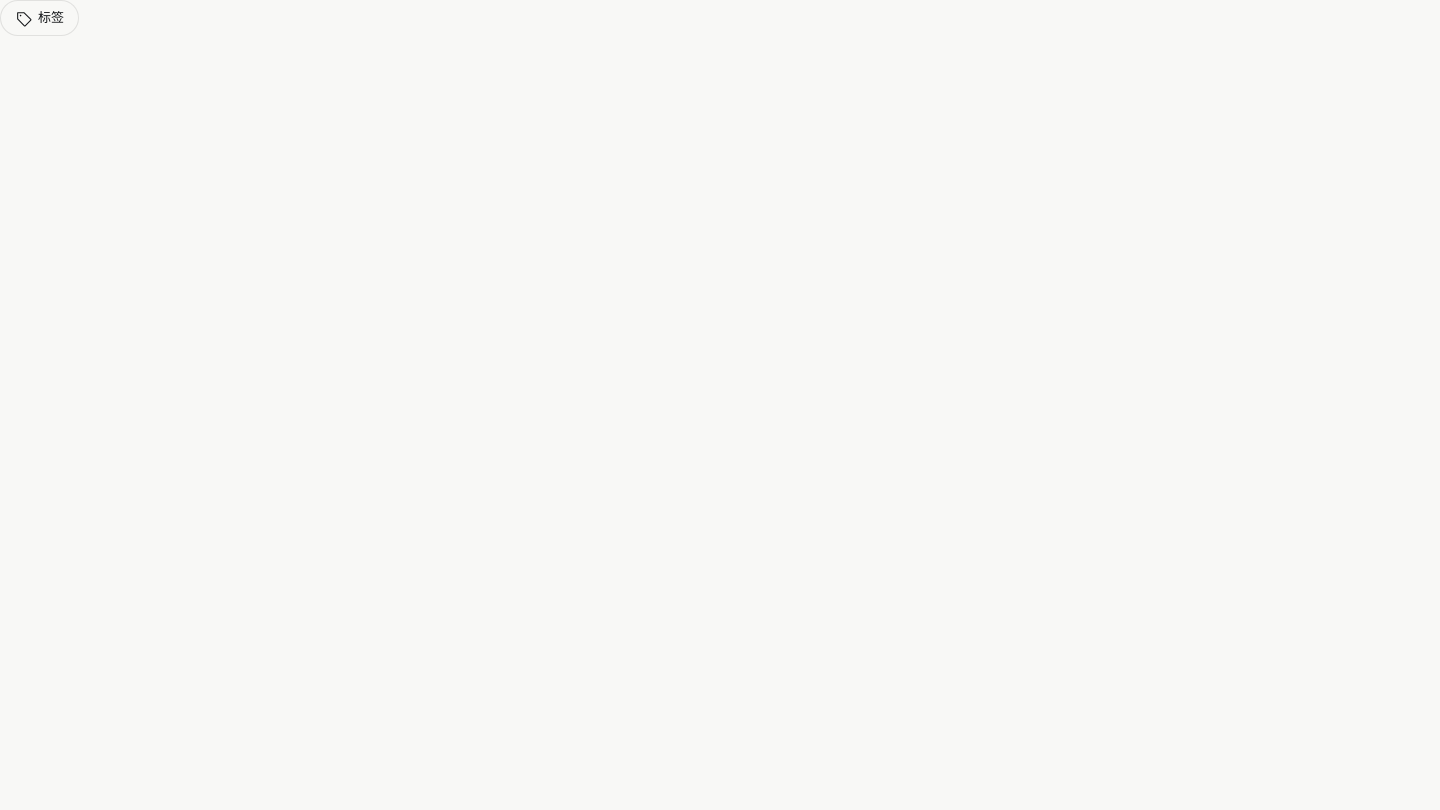
Test case: rejects old reads and writes when the media changes
This screenshot has width=1440, height=810.
Later steps or results of the test are not shown.
Click the button with aria-label "标签收藏": [40, 18] box [0, 0, 79, 36]
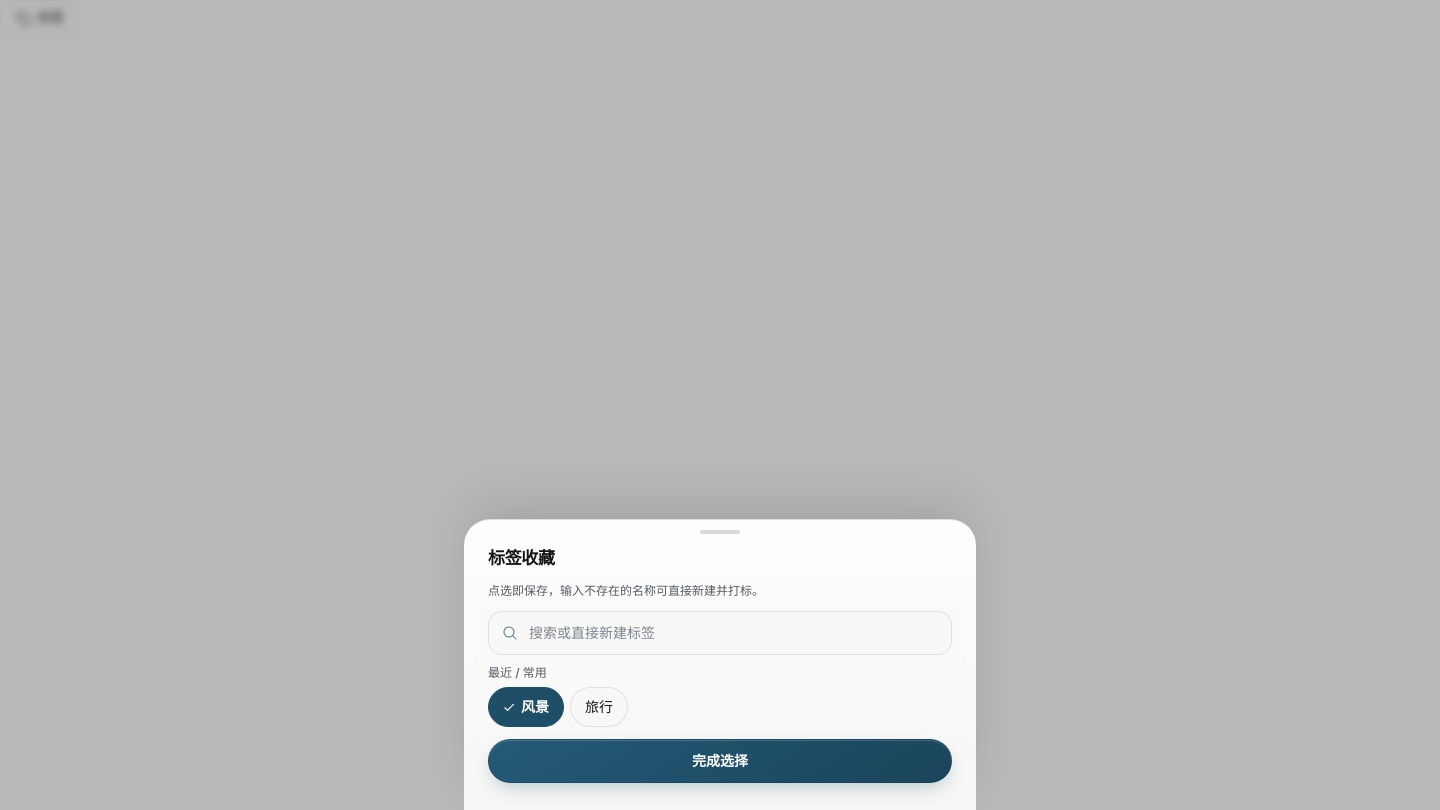
Click the checkbox labelled "旅行": [599, 707] box [570, 687, 628, 727]
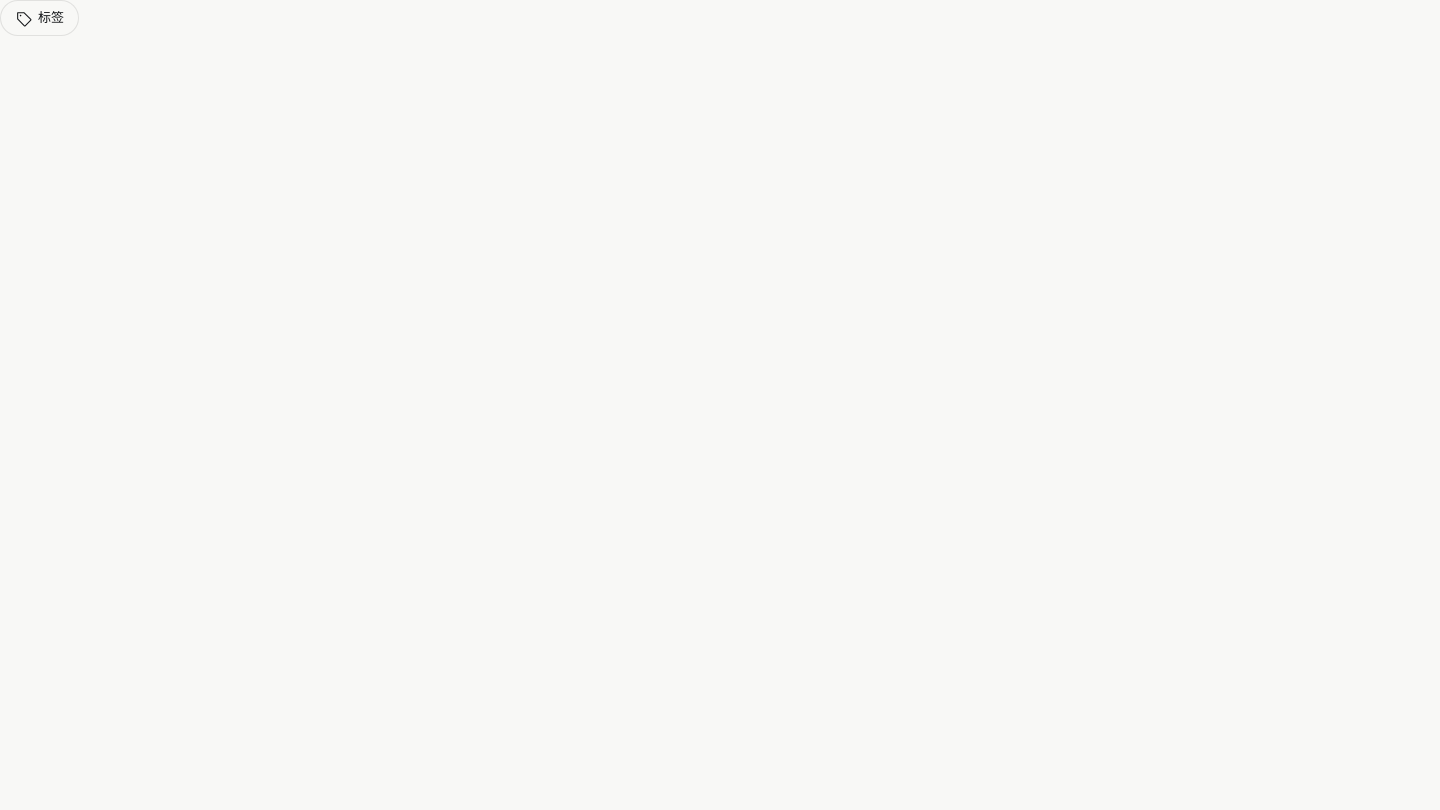
Expected: the button with aria-label "标签收藏" is shown, [0, 0, 79, 36]
Result: the dialog is gone
